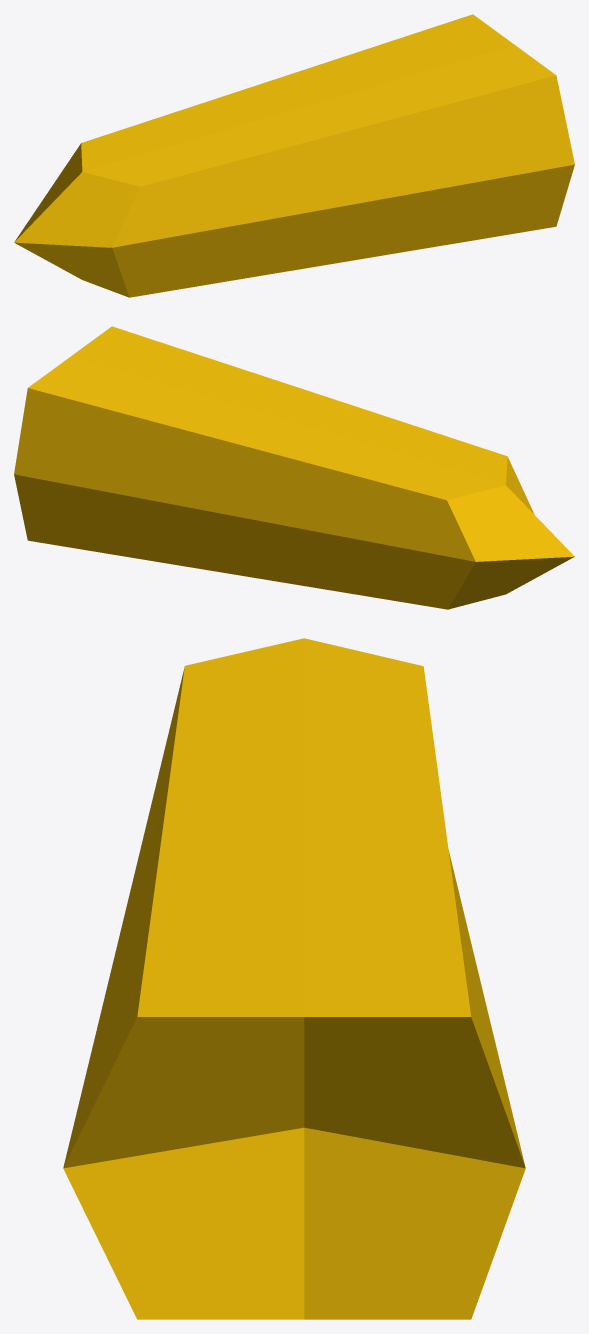
File: particle.glb
The picture shows the model from 3 angles, top to bottom: view 1: azimuth 30°, elevation 25°; view 2: azimuth 150°, elevation 25°; view 3: azimuth 270°, elevation 25°; orthographic projection. The views are drawn at different scales.
Parts seen in each view (by area): view 1: Cube; view 2: Cube; view 3: Cube.
Part boxes in pixels (x1,y1,x2,y2): Cube: (14,14,574,297); Cube: (14,326,574,609); Cube: (63,638,525,1319).
Bounding box in the file's own units: 2.29 × 0.6622 × 0.9174.
1 material, 1 textured.
